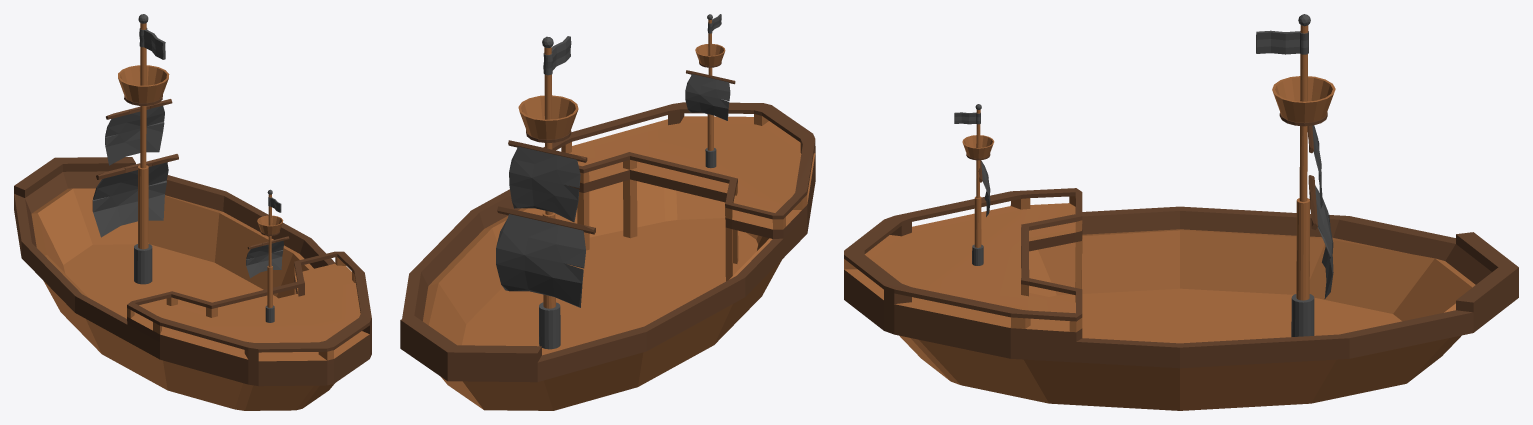
File: pirate_boat.glb
The picture shows the model from 3 angles, left to right: view 1: azimuth 30°, elevation 25°; view 2: azimuth 150°, elevation 25°; view 3: azimuth 270°, elevation 25°; orthographic projection. The views are drawn at different scales.
Parts seen in each view (by area): view 1: M_Boat; view 2: M_Boat; view 3: M_Boat.
Boxes of the visible parts, box(x1,y1,x2,y2) form: M_Boat: box(14, 14, 371, 410); M_Boat: box(400, 14, 815, 410); M_Boat: box(844, 14, 1518, 410).
Bounding box in the file's own units: 4.06 × 4.6 × 8.21.
Materials: 1 (1 with a texture image).
